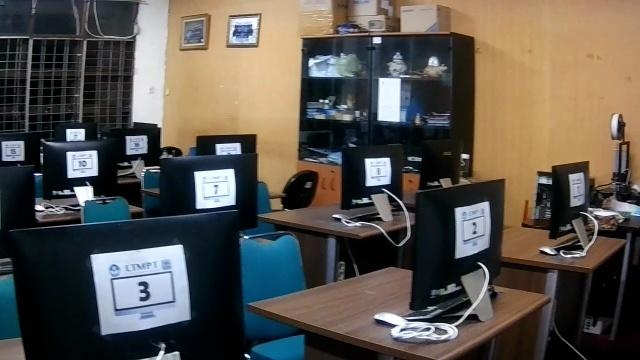AIO PC-Monitor-TV: (9, 208, 243, 359), (405, 177, 506, 322), (339, 142, 404, 225), (547, 159, 591, 249)
Kursi: (238, 230, 313, 359)
Meja: (246, 262, 550, 359), (258, 200, 414, 271)
